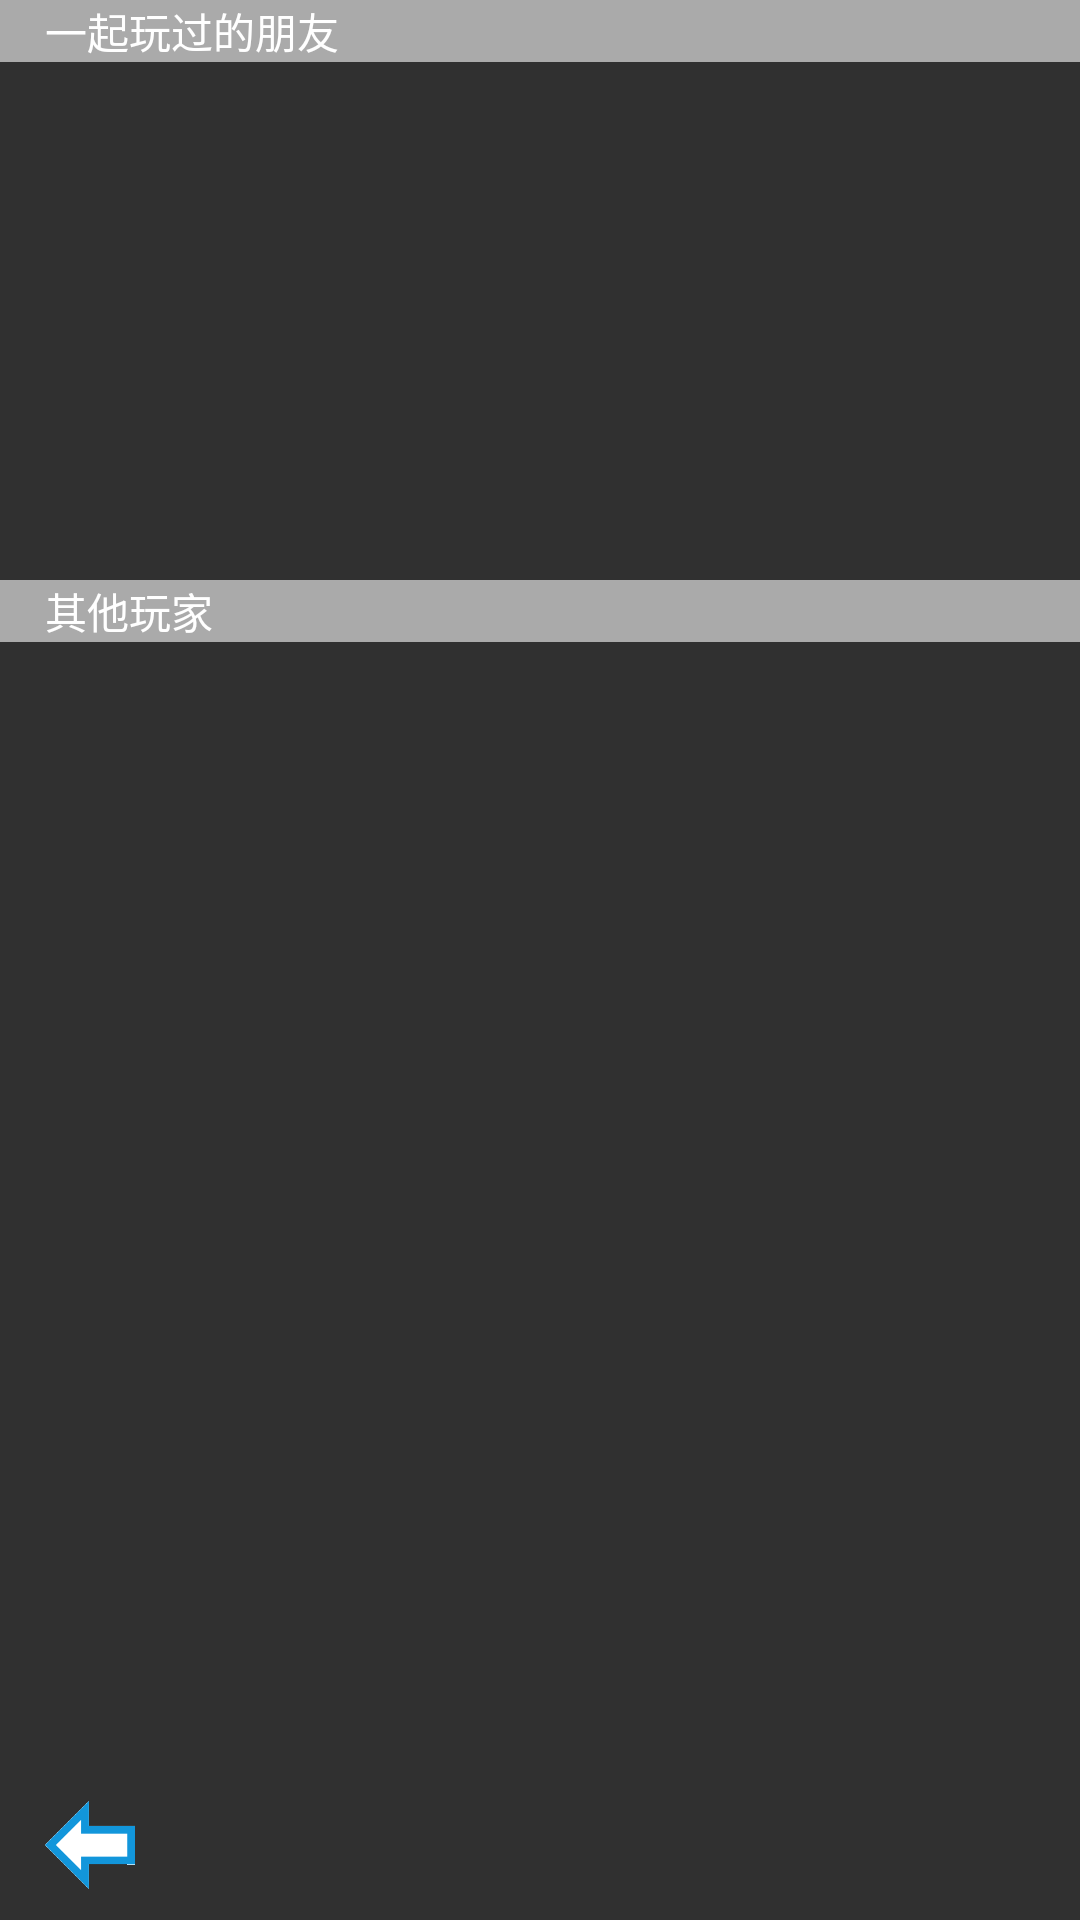

Point at icon controls on the screen. Image size 1080 × 1920, points as (x,y).
back: (90,1845)
